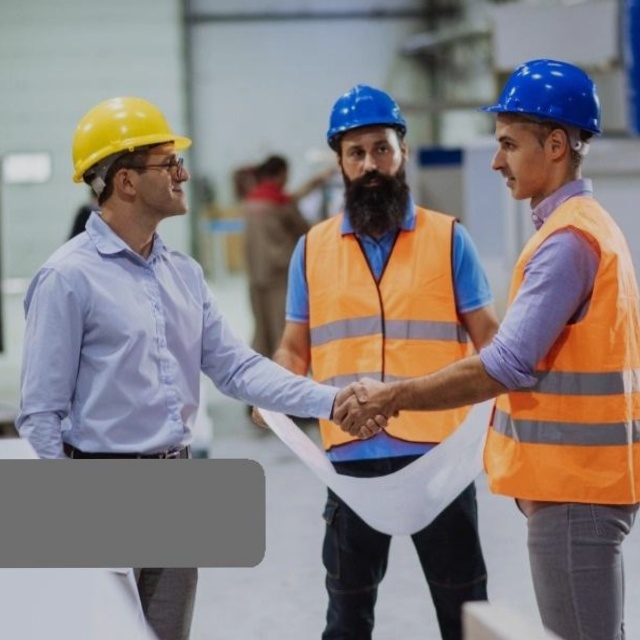Con_Casco: (477, 59, 599, 199), (322, 84, 408, 207)
Con_Chaleco: (479, 203, 640, 501), (304, 210, 473, 448)
Sin_Chaleco: (22, 227, 220, 458)
